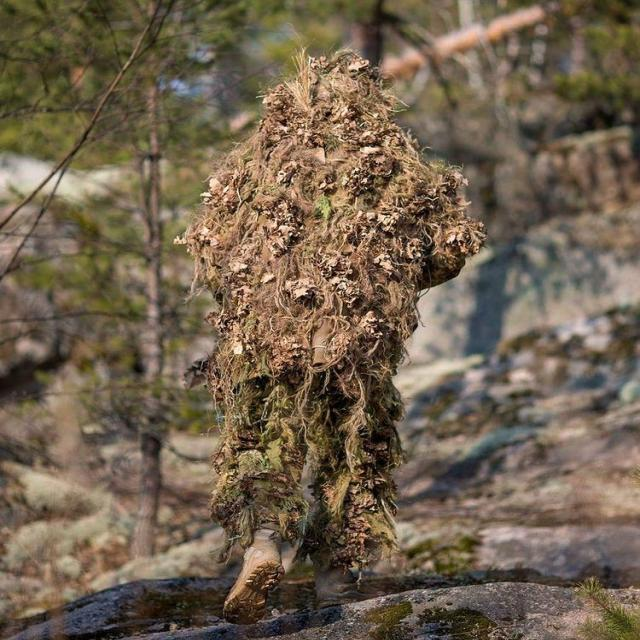Camouflage: (180, 50, 478, 623)
